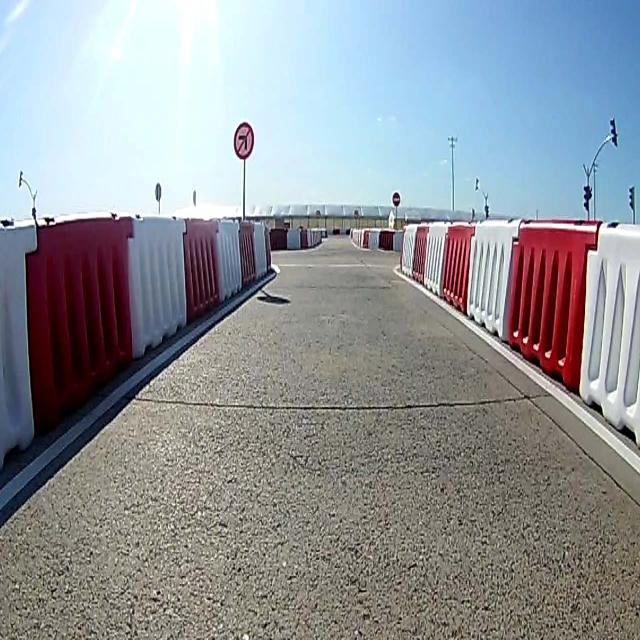girisyok: (392, 190, 402, 207)
soladonulmez: (234, 122, 252, 161)
